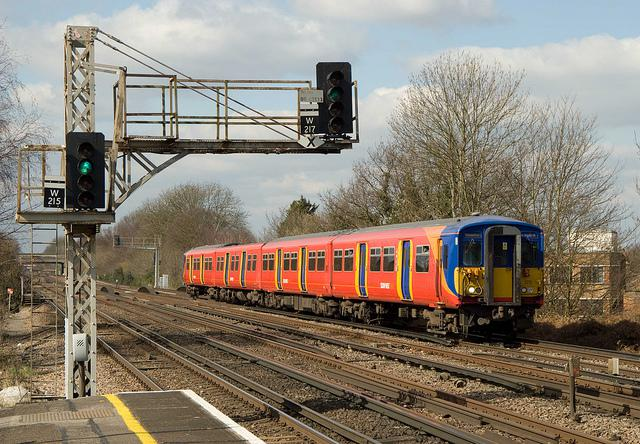Train: (183, 215, 547, 330)
